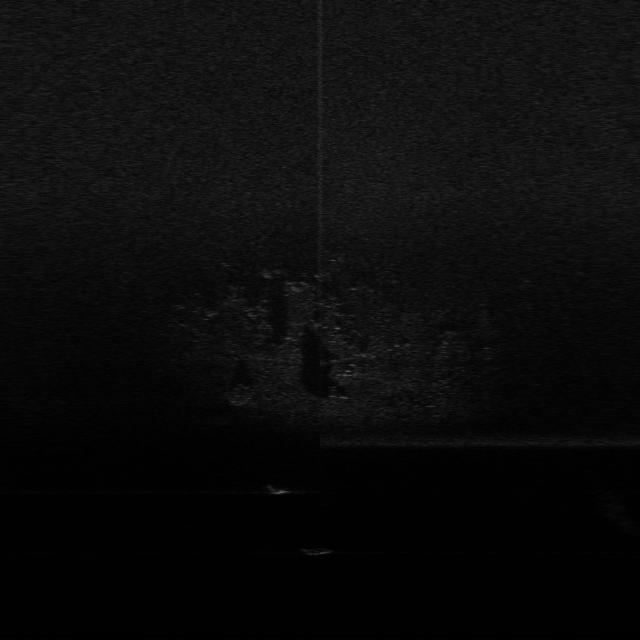cube: (266, 482, 296, 497)
square cage: (263, 482, 291, 494)
